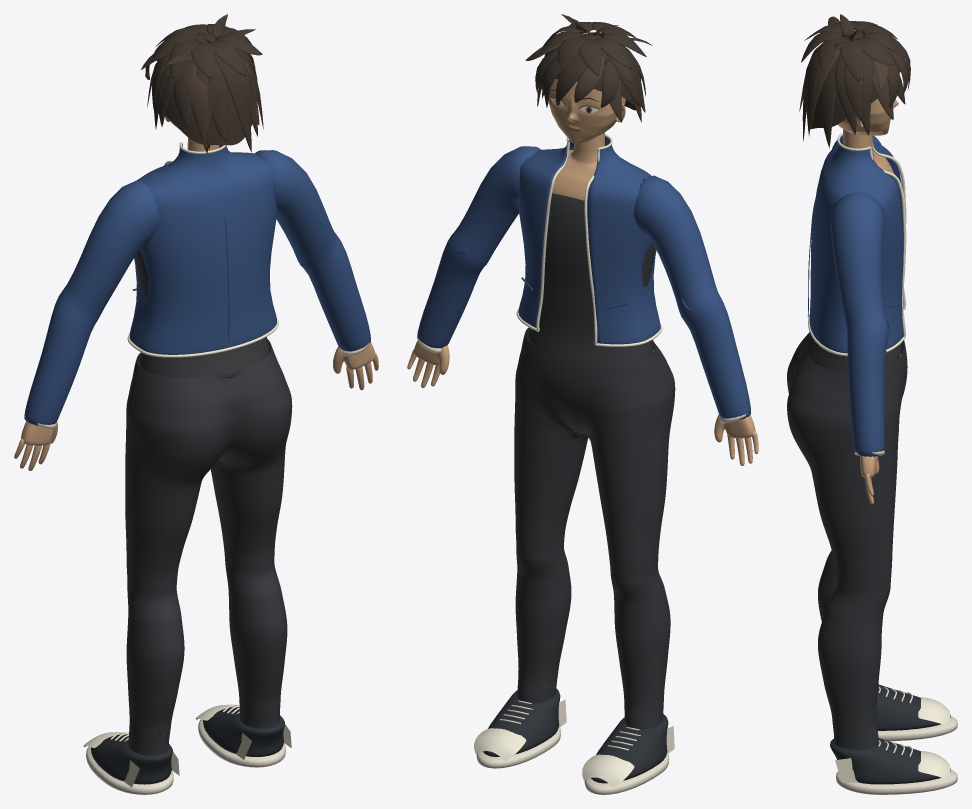
The model's file is character_a_base.glb.
3 views of the same model, side by side, from view 1: azimuth 30°, elevation 25°; view 2: azimuth 150°, elevation 25°; view 3: azimuth 270°, elevation 25° (orthographic). The views are drawn at different scales.
Visible parts, largest first — view 1: Outfit trousers, Cobalt jacket • open shell, Jacket sleeve.001, Jacket sleeve, Outfit undershirt, Body_A_complete, Sneaker upper.001, Sneaker upper, Hair cap, Side and nape 07, Rubber outsole, Rubber outsole.001 (+3 smaller); view 2: Outfit trousers, Cobalt jacket • open shell, Jacket sleeve.001, Outfit undershirt, Jacket sleeve, Body_A_complete, Head_A_integrated, Sneaker upper.001, Sneaker upper, Ivory toe cap.001, Ivory toe cap, Rubber outsole (+6 smaller); view 3: Outfit trousers, Jacket sleeve, Cobalt jacket • open shell, Sneaker upper, Sneaker upper.001, Rubber outsole, Body_A_complete, Outfit undershirt, Head_A_integrated, Side and nape 11, Rubber outsole.001, Side and nape 14 (+19 smaller).
Boxes of the visible parts, <box> form: Outfit trousers: <box>125,339,292,755</box>; Cobalt jacket • open shell: <box>129,144,277,354</box>; Jacket sleeve.001: <box>24,180,159,425</box>; Jacket sleeve: <box>255,150,370,351</box>; Outfit undershirt: <box>135,250,269,378</box>; Body_A_complete: <box>14,137,378,470</box>; Sneaker upper.001: <box>91,734,172,784</box>; Sneaker upper: <box>203,707,284,756</box>; Hair cap: <box>165,32,252,145</box>; Side and nape 07: <box>208,57,228,142</box>; Rubber outsole: <box>198,719,285,767</box>; Rubber outsole.001: <box>86,747,173,794</box>; Outfit trousers: <box>514,327,675,729</box>; Cobalt jacket • open shell: <box>517,136,660,344</box>; Jacket sleeve.001: <box>633,175,750,419</box>; Outfit undershirt: <box>528,193,654,363</box>; Jacket sleeve: <box>417,146,540,348</box>; Body_A_complete: <box>407,132,758,465</box>; Head_A_integrated: <box>548,79,625,143</box>; Sneaker upper.001: <box>591,714,668,783</box>; Sneaker upper: <box>483,688,560,756</box>; Ivory toe cap.001: <box>582,754,634,787</box>; Ivory toe cap: <box>474,728,526,760</box>; Rubber outsole: <box>476,728,560,768</box>; Outfit trousers: <box>787,332,907,749</box>; Jacket sleeve: <box>830,192,888,456</box>; Cobalt jacket • open shell: <box>809,135,903,353</box>; Sneaker upper: <box>830,738,950,784</box>; Sneaker upper.001: <box>876,684,950,730</box>; Rubber outsole: <box>836,769,957,794</box>; Body_A_complete: <box>843,129,901,504</box>; Outfit undershirt: <box>805,191,902,372</box>; Head_A_integrated: <box>837,98,898,135</box>; Side and nape 11: <box>820,51,840,147</box>; Rubber outsole.001: <box>877,715,957,741</box>; Side and nape 14: <box>860,51,873,135</box>.
Size of the model in its own units: 0.8588 by 1.7 by 0.3572.
